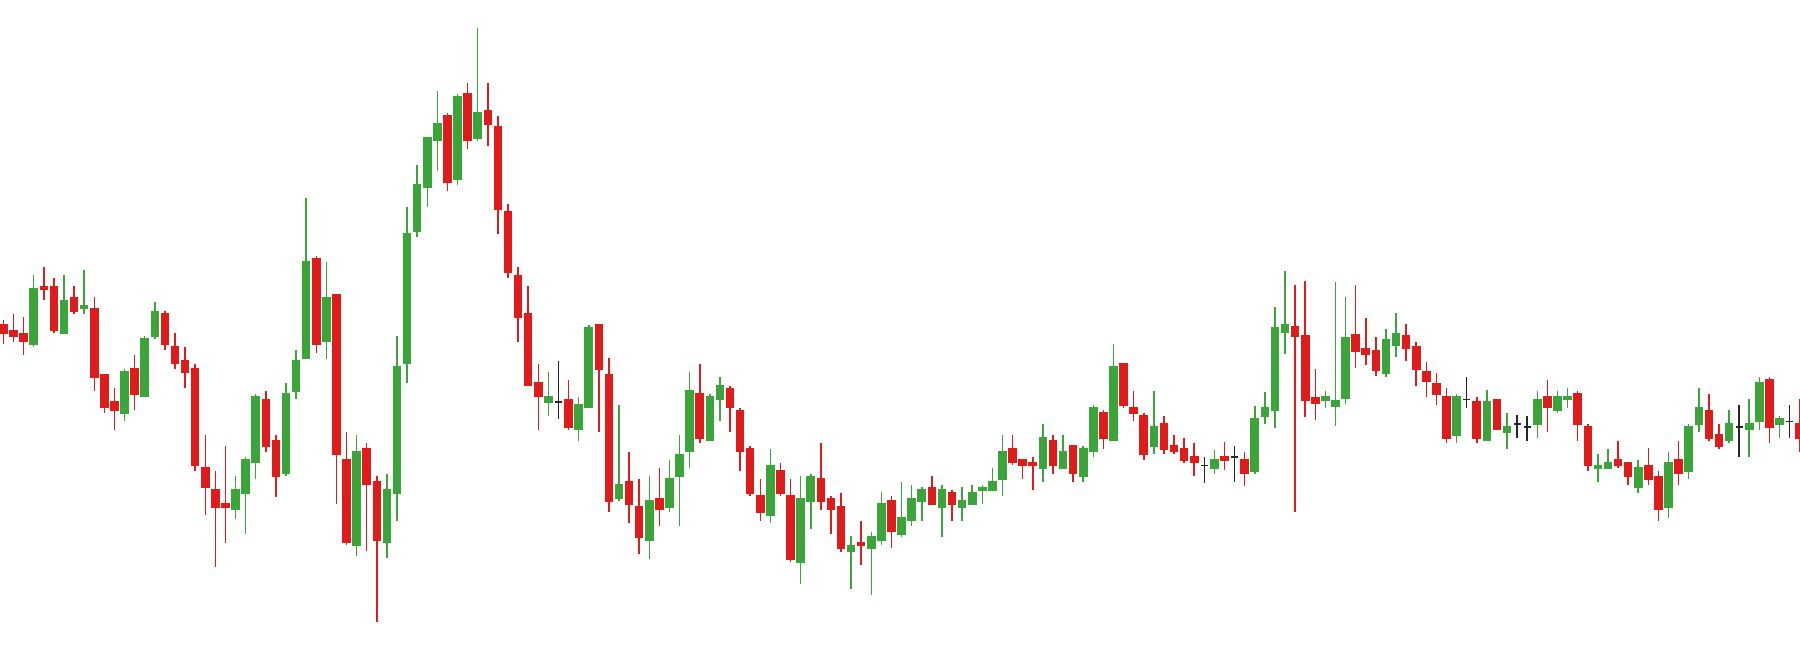buy: (784, 506, 856, 601)
sell: (1105, 269, 1312, 399)
